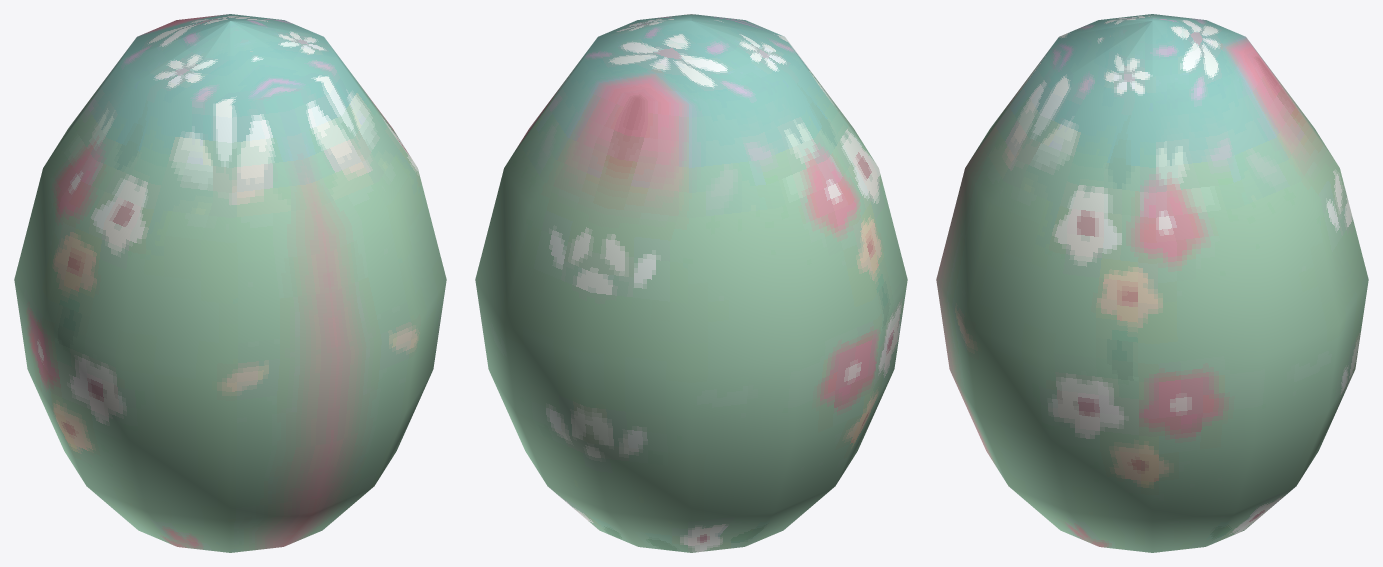
File: item_easter_egg.glb
3 renders of one model, left to right at view 1: azimuth 30°, elevation 25°; view 2: azimuth 150°, elevation 25°; view 3: azimuth 270°, elevation 25°, orthographic.
Parts seen in each view (by area): view 1: Easter_Egg; view 2: Easter_Egg; view 3: Easter_Egg.
Part boxes in pixels (x1,y1,x2,y2): Easter_Egg: (14,14,446,552); Easter_Egg: (475,14,907,552); Easter_Egg: (936,14,1368,552).
Bounding box in the file's own units: 0.3495 × 0.4584 × 0.3495.
1 material, 1 textured.
